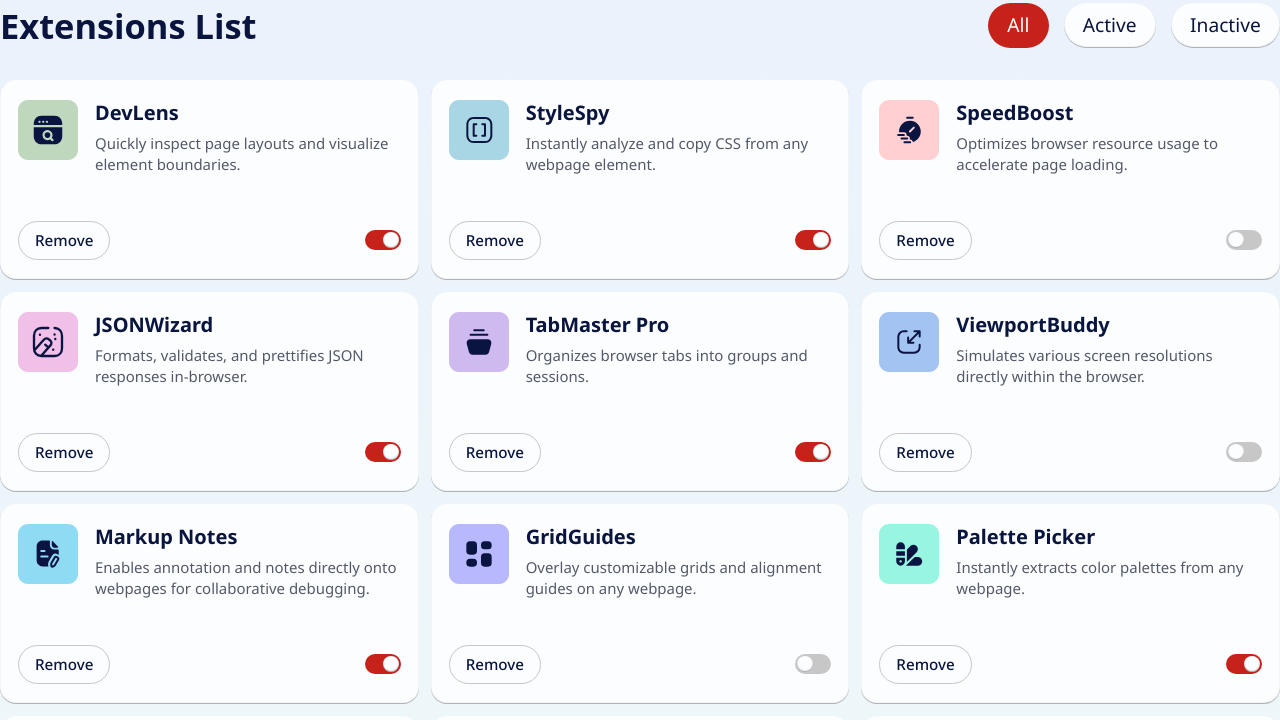
Filter flow › shows empty state when no extensions are inactive
The image size is (1280, 720).
Click the button named "Toggle SpeedBoost active status". click: [1244, 240]
box: [1226, 230, 1262, 250]
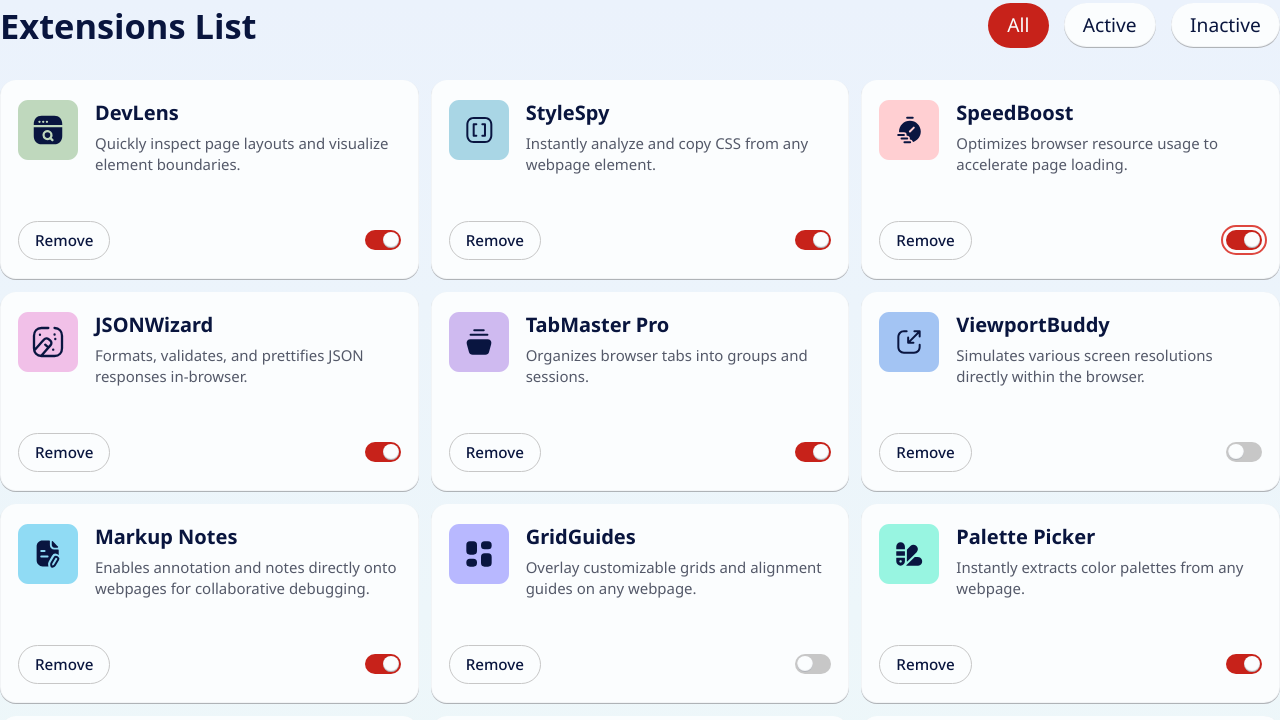
Click the button named "Toggle ViewportBuddy active status". click: [1244, 452]
box: [1226, 442, 1262, 462]
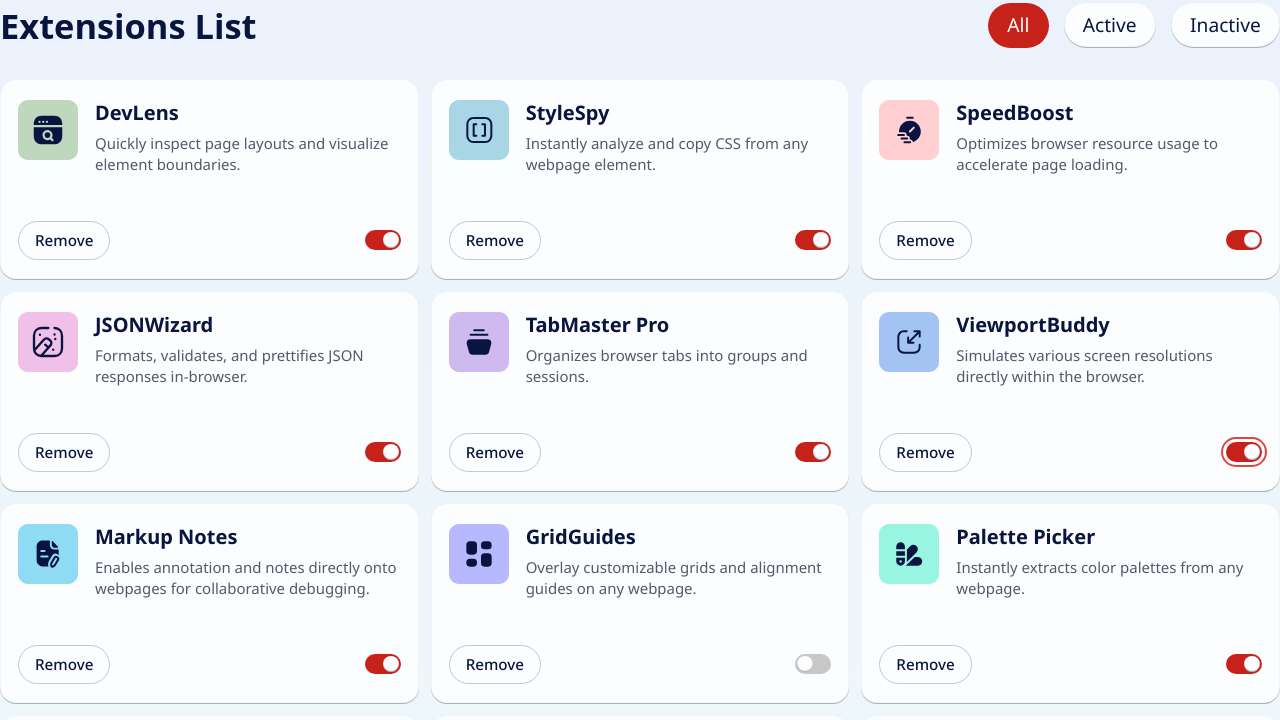
Click the button named "Toggle GridGuides active status". click: [813, 664]
box: [795, 654, 831, 674]
(page scrolled)
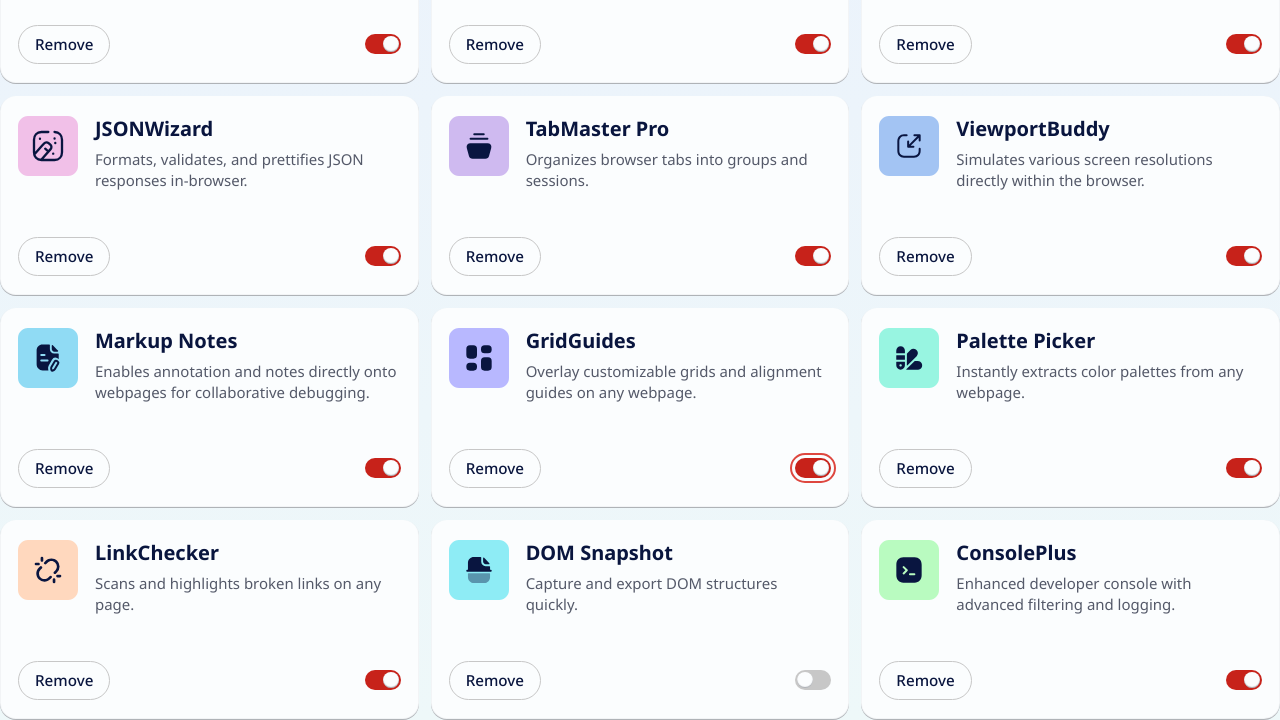
Click the button named "Toggle DOM Snapshot active status". click: [813, 680]
box: [795, 670, 831, 690]
(page scrolled)
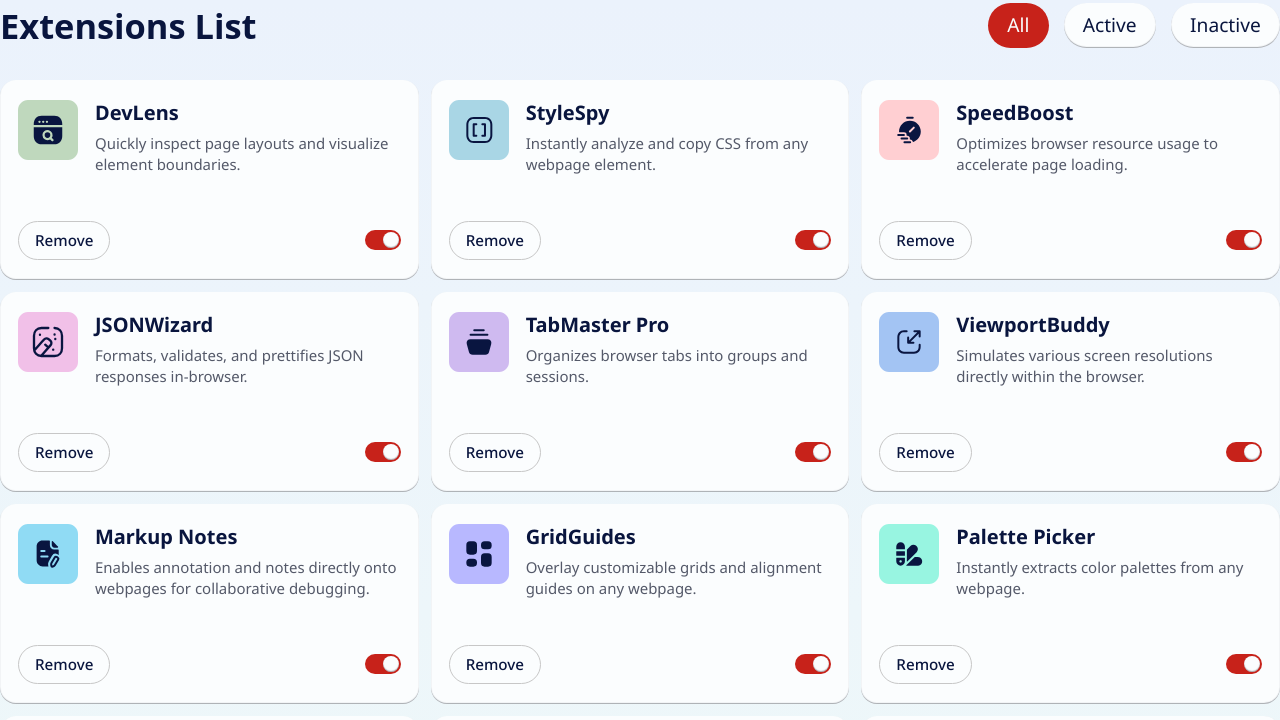
Click the button "inactive". click: [1225, 26]
box: [1171, 3, 1279, 48]
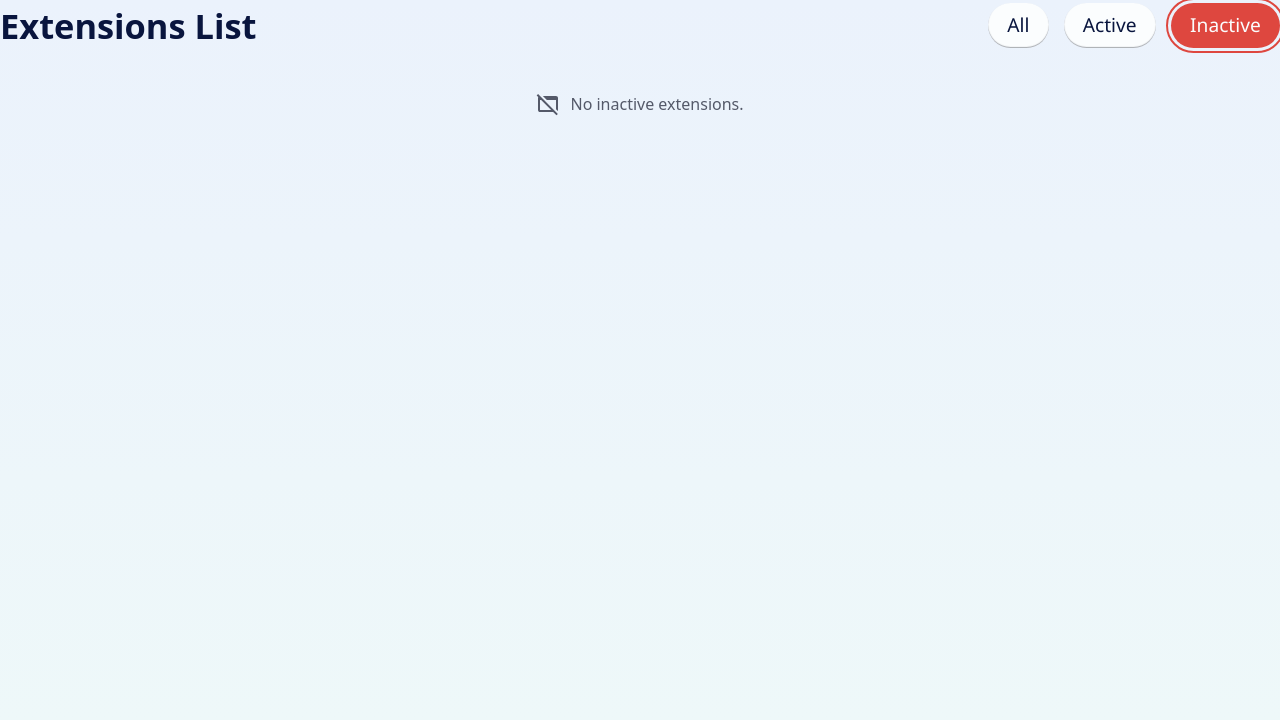
Expected: the text "No inactive extensions." is shown, [570, 92, 744, 116]
